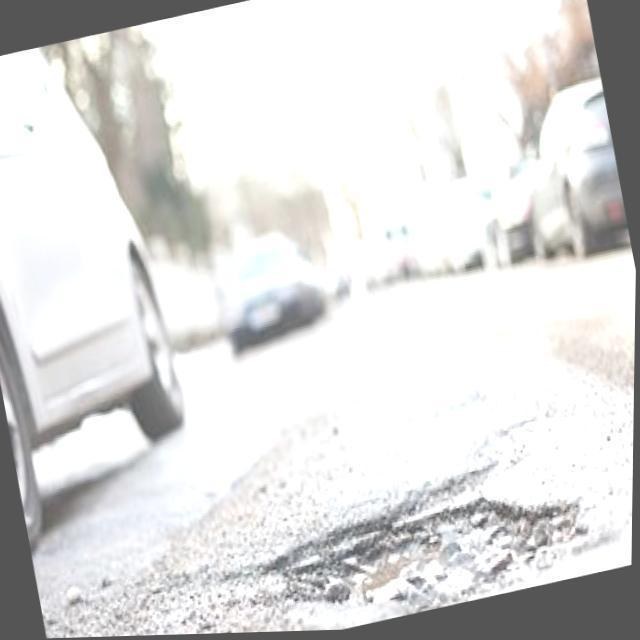Pothole: (262, 461, 594, 619)
